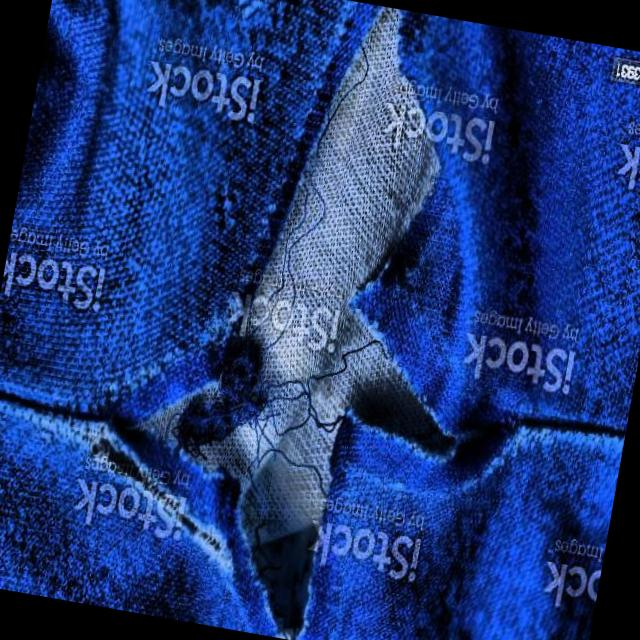cut: (37, 0, 604, 640)
